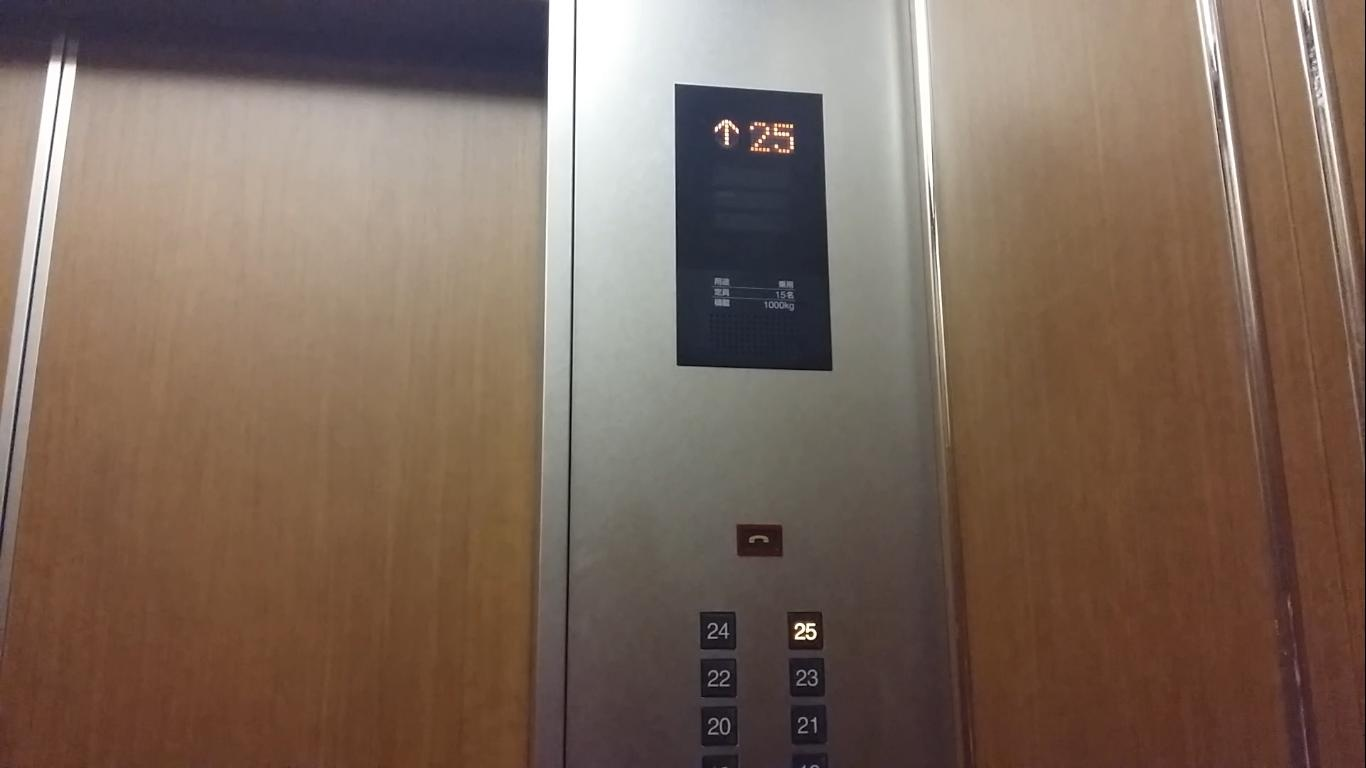20: (699, 704, 740, 747)
21: (788, 703, 829, 747)
22: (698, 656, 739, 699)
23: (786, 657, 828, 699)
24: (697, 609, 739, 652)
25: (786, 611, 825, 652)
call: (735, 522, 784, 559)
led: (670, 74, 838, 380)
